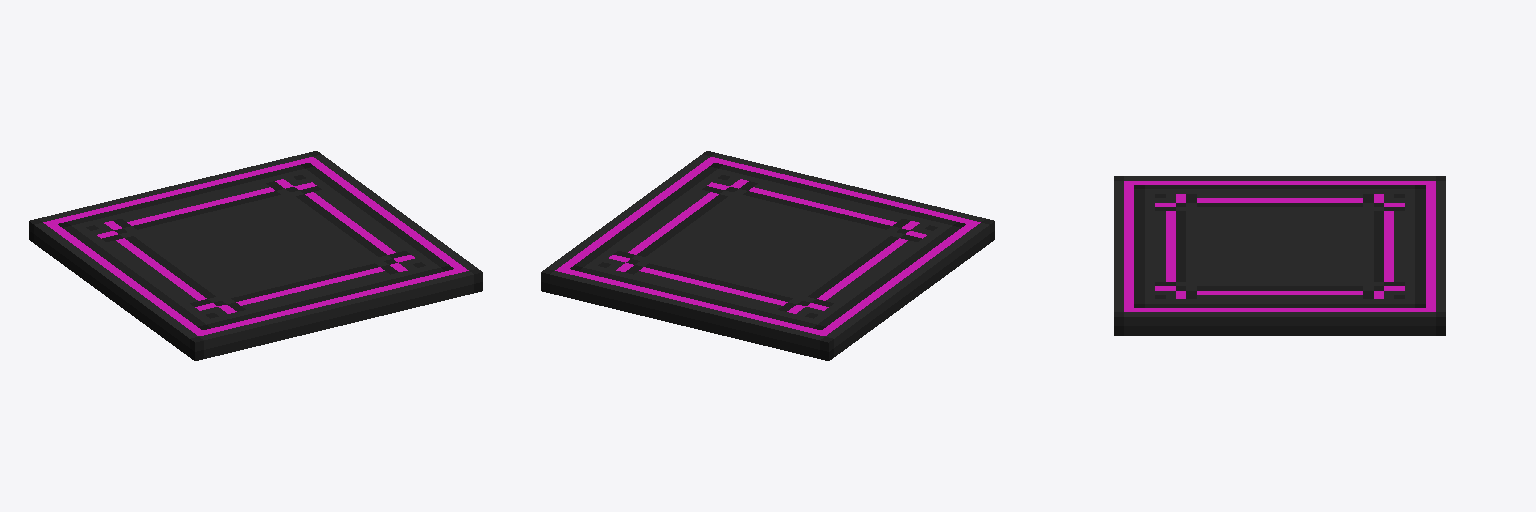
3 renders of one model, left to right at view 1: azimuth 30°, elevation 25°; view 2: azimuth 150°, elevation 25°; view 3: azimuth 270°, elevation 25°, orthographic.
Parts seen in each view (by area): view 1: tilestart; view 2: tilestart; view 3: tilestart.
Boxes of the visible parts, x1,y1,x2,y2 form: tilestart: [29, 151, 482, 360]; tilestart: [541, 151, 994, 360]; tilestart: [1114, 176, 1445, 335].
Bounding box in the file's own units: 32 × 2 × 32.
Materials: 1 (1 with a texture image).